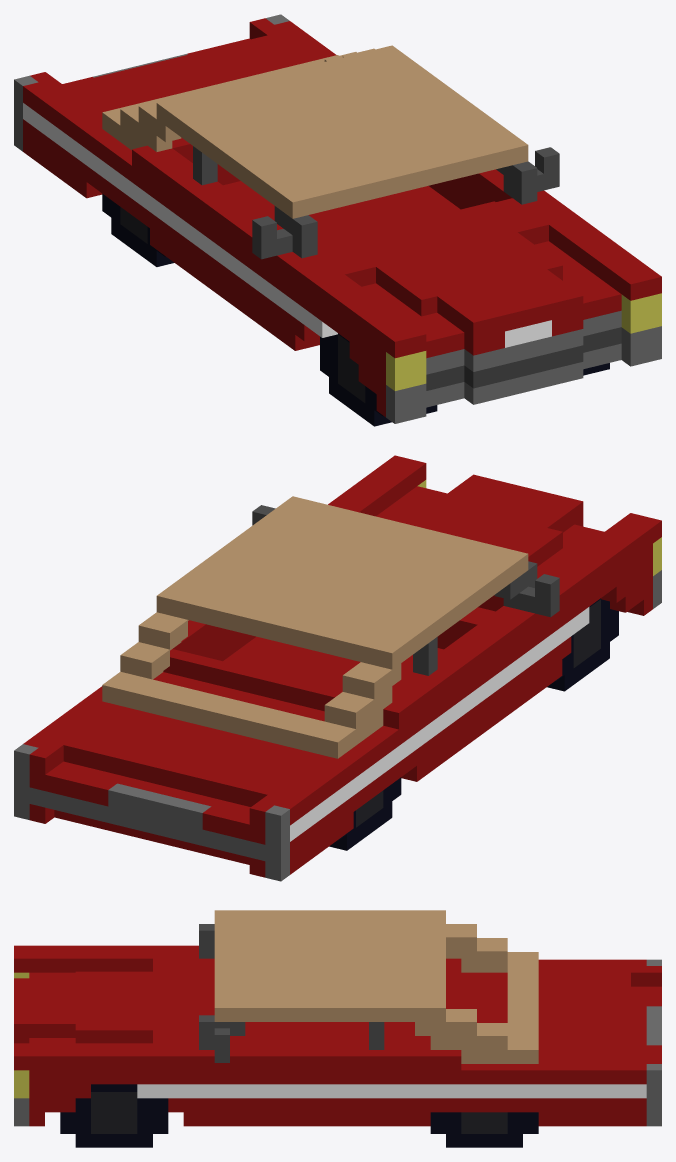
The model's file is CarRed.obj.
3 renders of one model, top to bottom at view 1: azimuth 30°, elevation 25°; view 2: azimuth 150°, elevation 25°; view 3: azimuth 270°, elevation 25°, orthographic. The views are drawn at different scales.
Size of the model in its own units: 1.9 by 1 by 4.2.
Materials: 1 (1 with a texture image).
